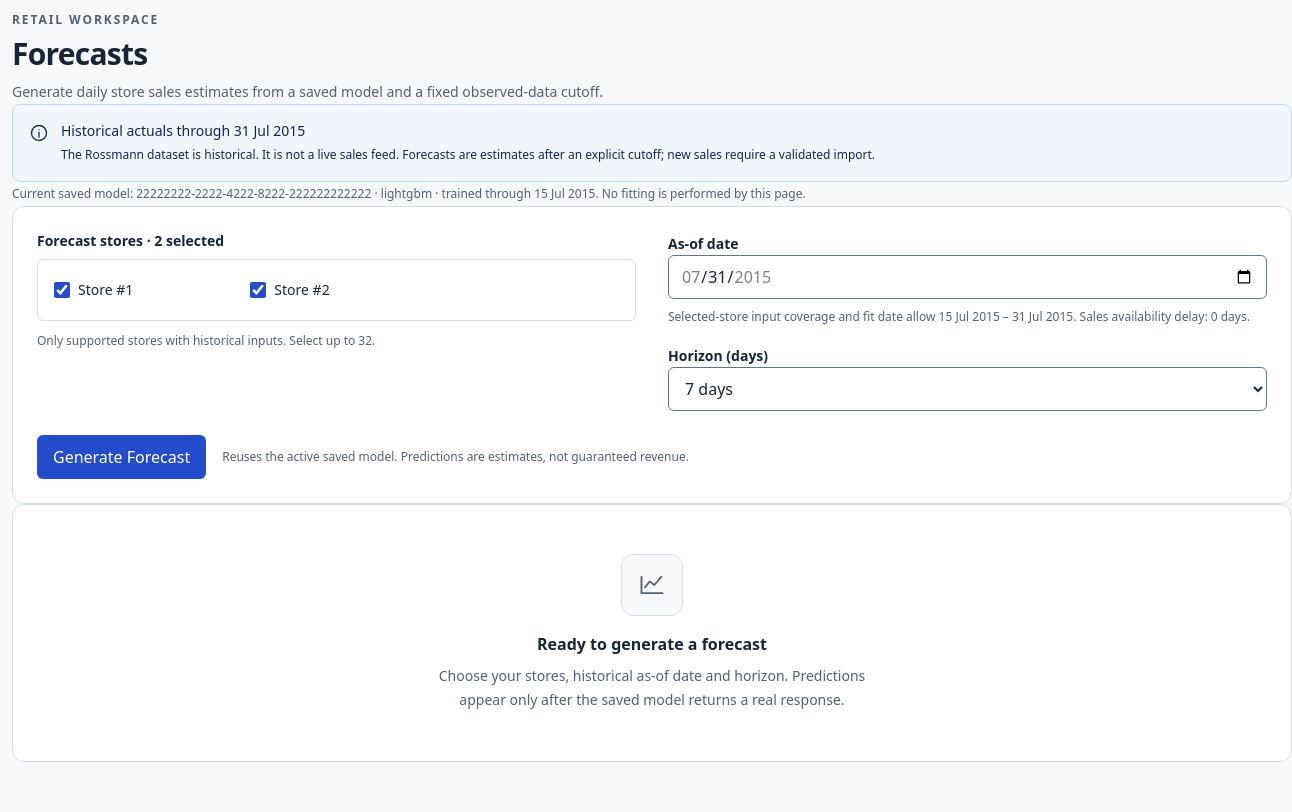
Test: forecast failures are explained without fabricated results or automatic retraining
Click the button "Generate Forecast" at (122, 457), box [37,435,206,479]
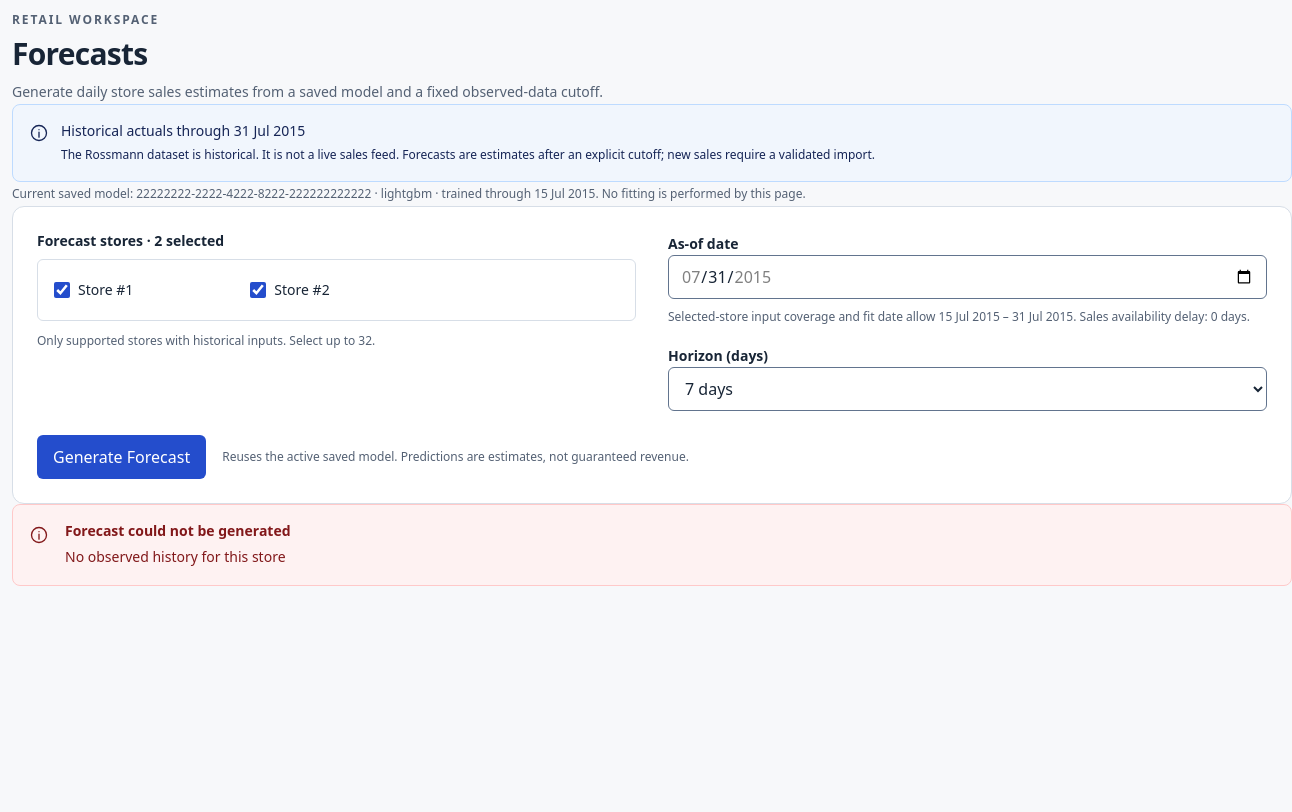
Result: the message shows "No observed history for this store" at [65,547,286,566]
